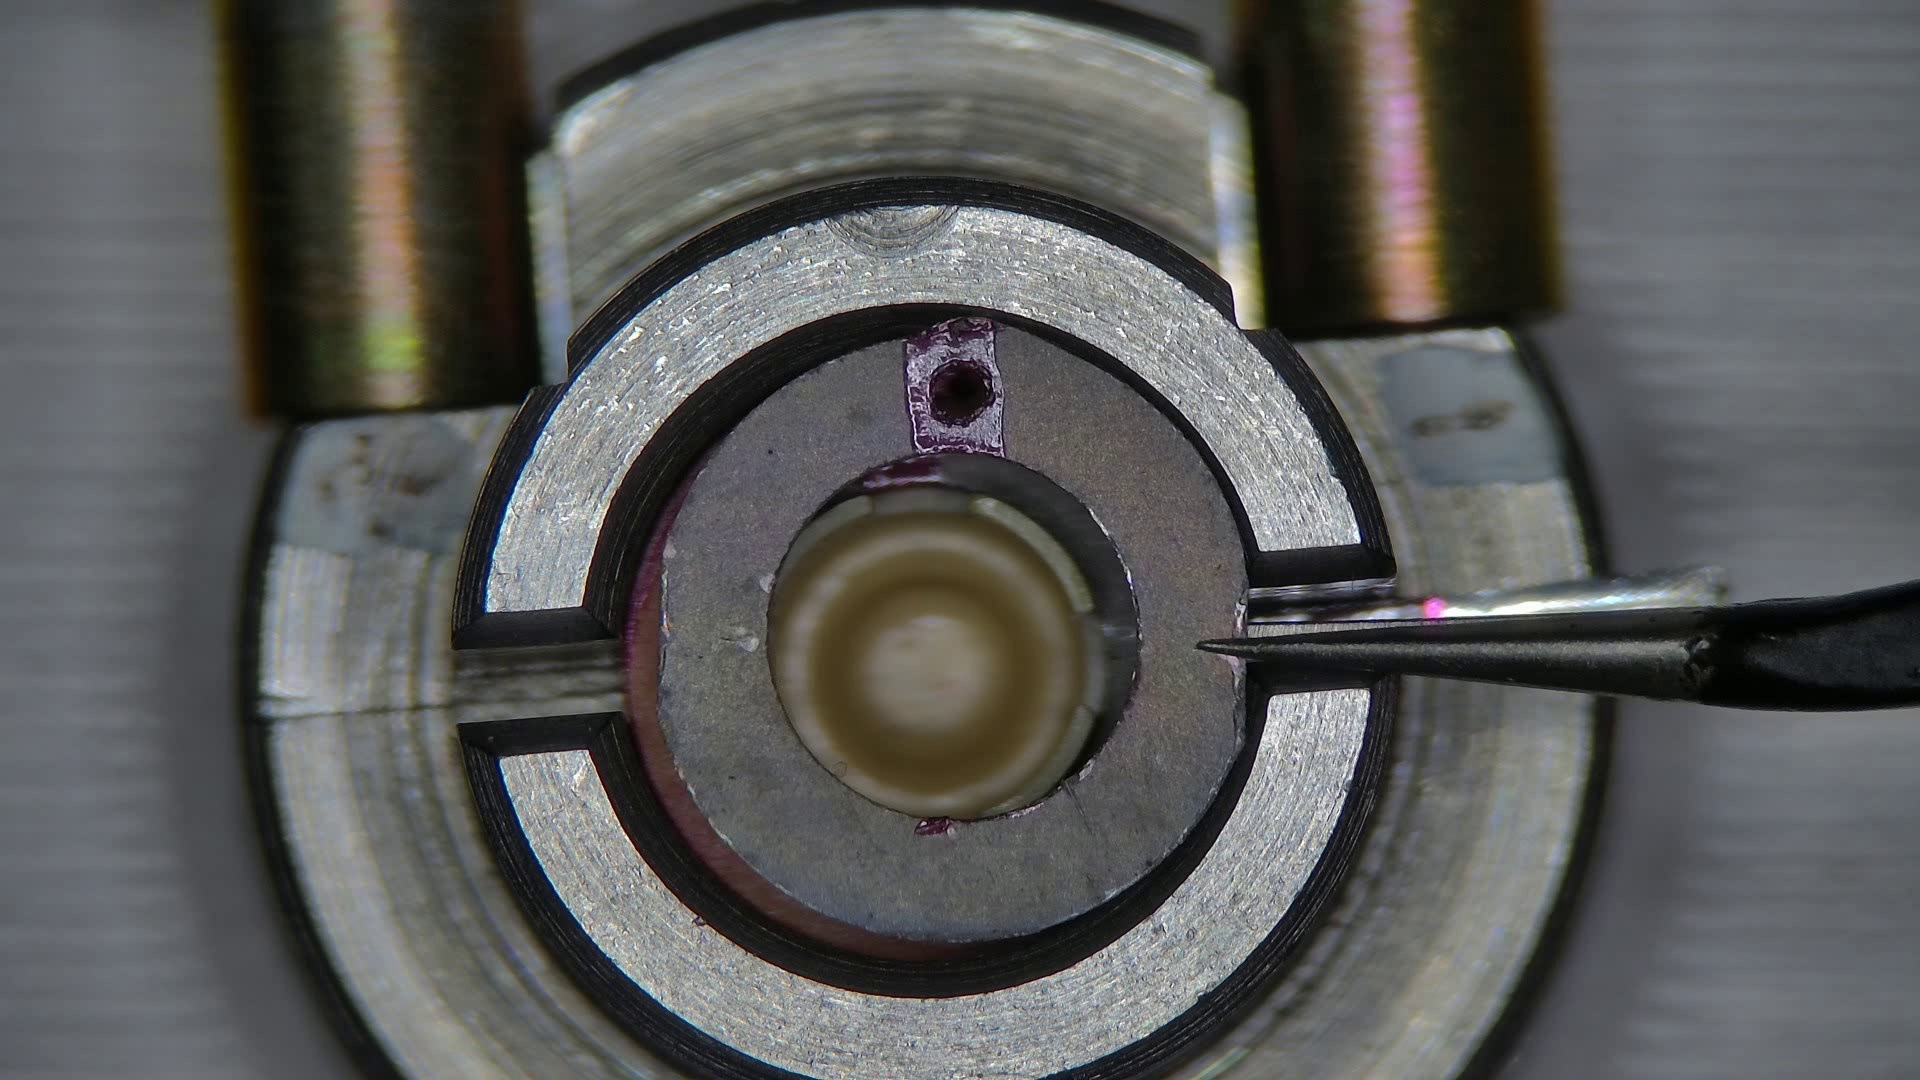GreyOring: (626, 560, 798, 920)
YellowOring: (655, 319, 1247, 935), (882, 454, 1139, 687)
